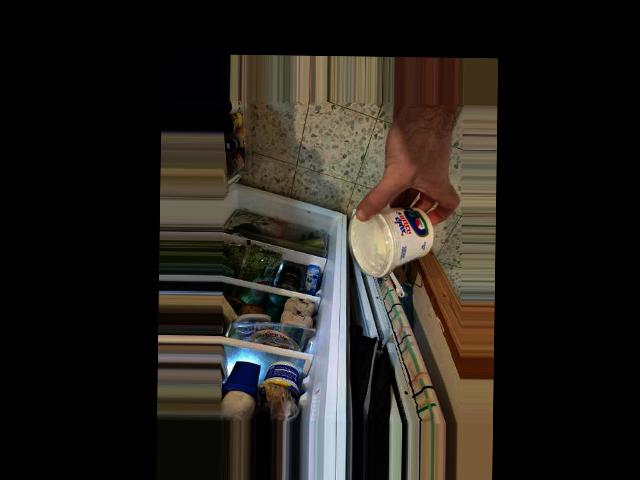cotage: (363, 198, 434, 283)
